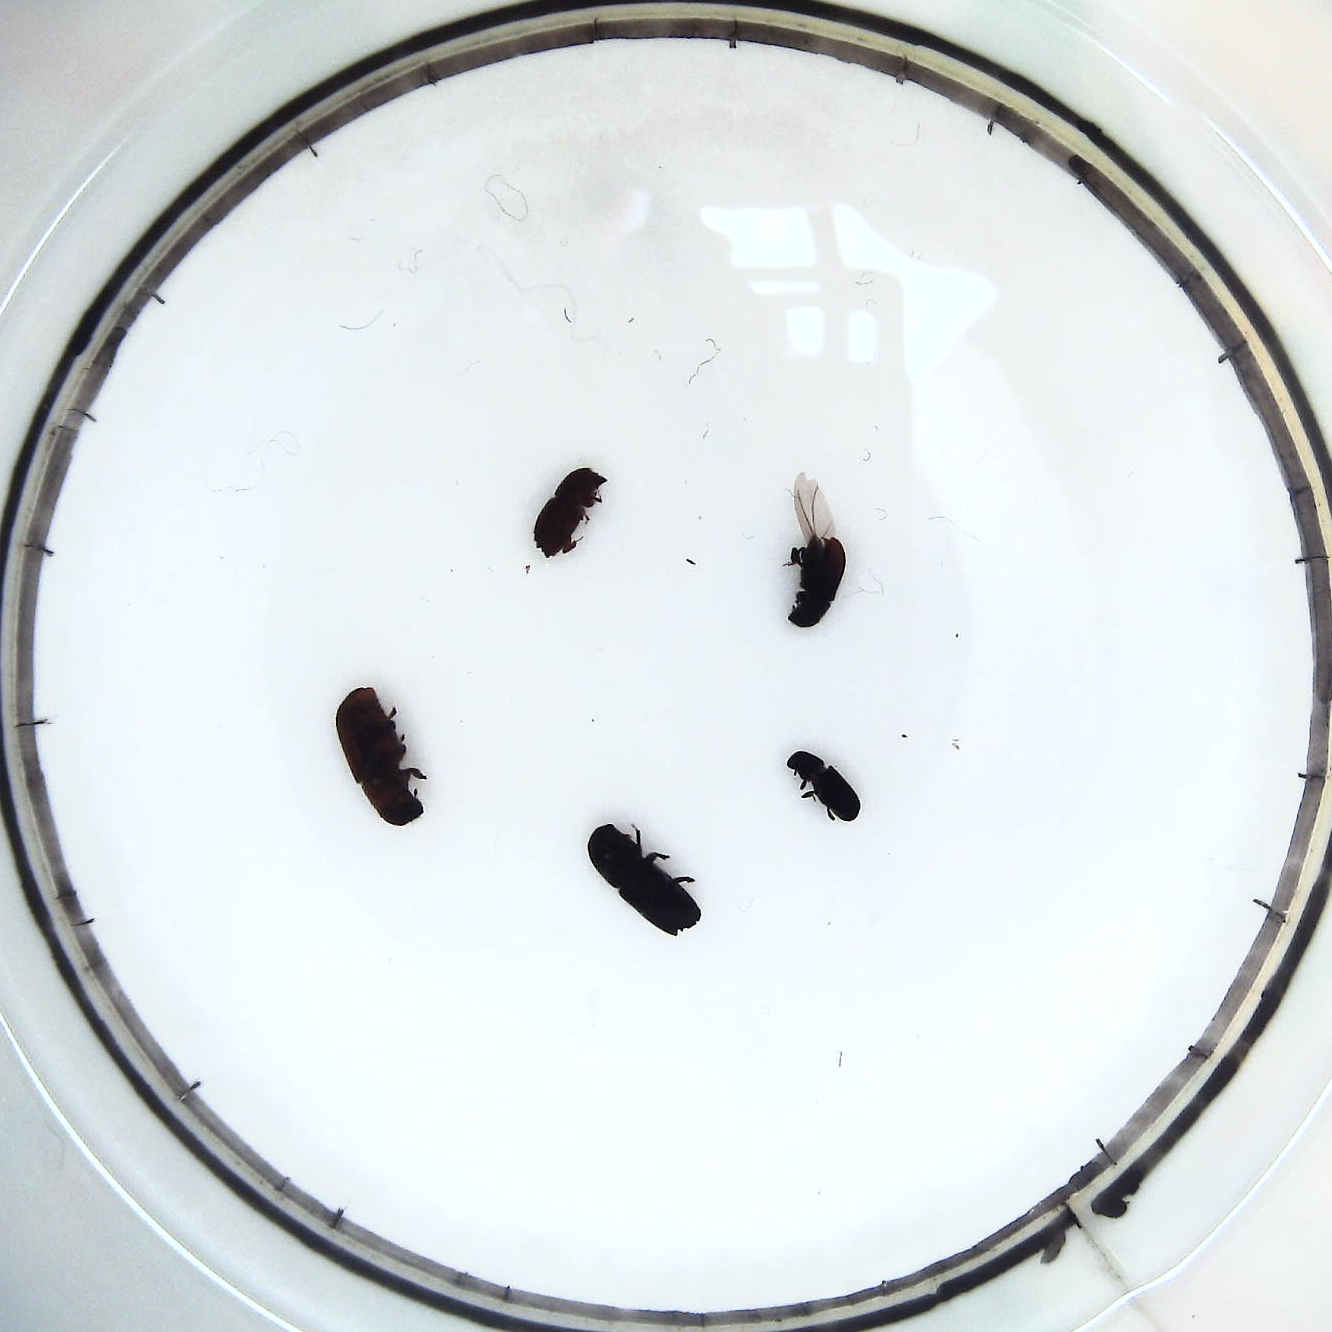Boerner: (585, 816, 704, 940)
Leconte: (338, 682, 431, 833)
armandi: (777, 468, 853, 633)
coleoptera: (782, 743, 868, 829)
linnaeus: (531, 464, 614, 560)
